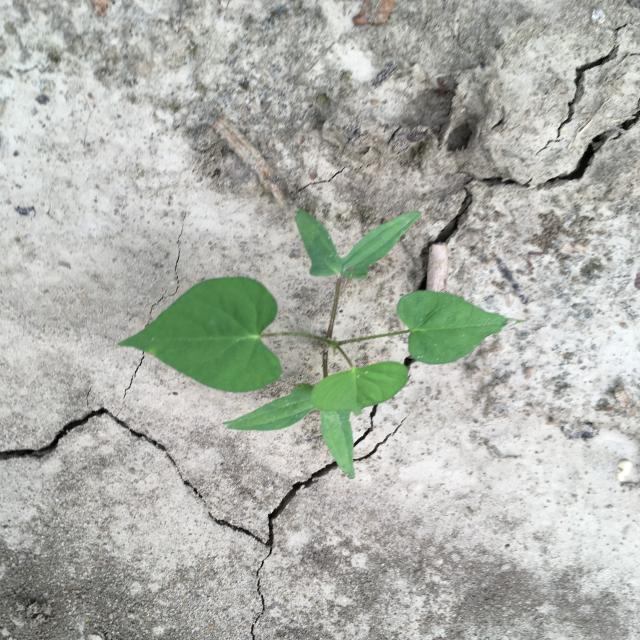MorningGlory: (115, 209, 526, 480)
